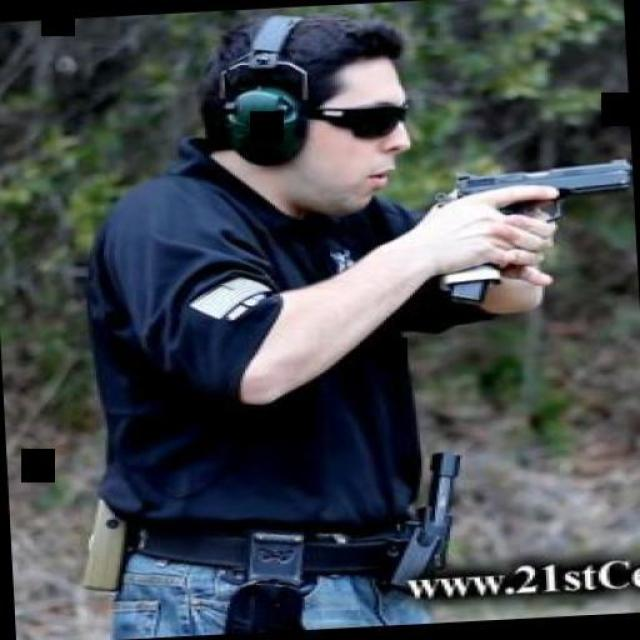gun: (439, 158, 636, 302)
